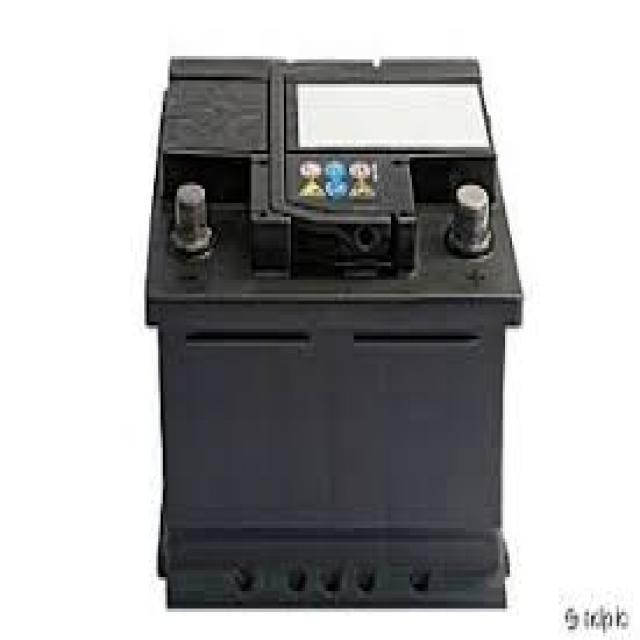battery: (144, 57, 526, 609)
